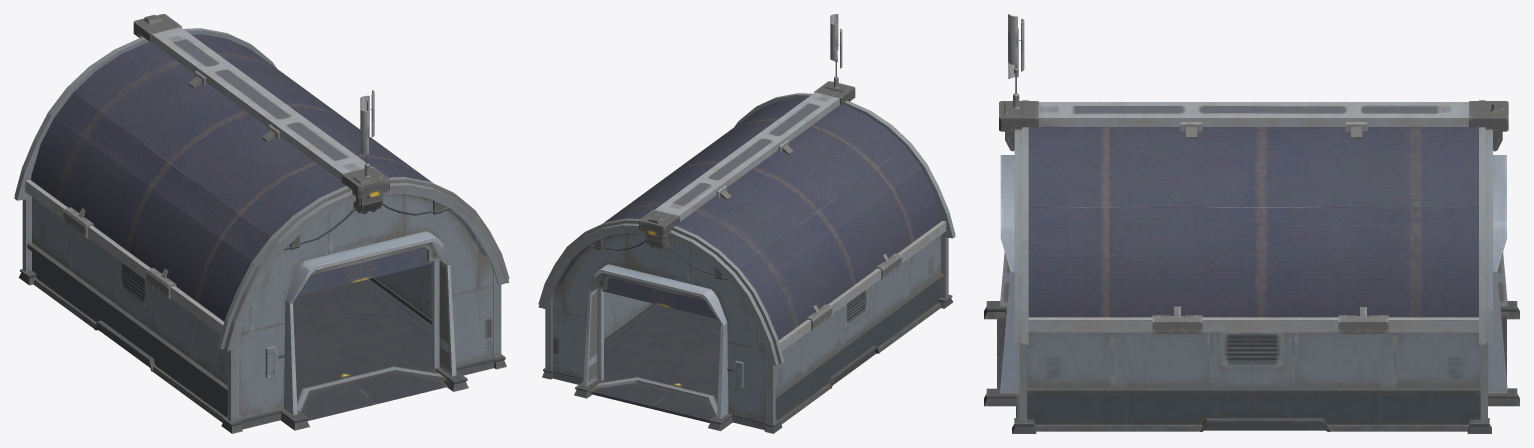
The model's file is Demo_fangzi03.FBX.
3 views of the same model, side by side, from view 1: azimuth 30°, elevation 25°; view 2: azimuth 150°, elevation 25°; view 3: azimuth 270°, elevation 25° (orthographic). The views are drawn at different scales.
Visible parts, largest first — view 1: Demo_fangzi03; view 2: Demo_fangzi03; view 3: Demo_fangzi03.
Boxes of the visible parts, <box> form: Demo_fangzi03: <box>14,14,509,433</box>; Demo_fangzi03: <box>538,14,955,433</box>; Demo_fangzi03: <box>984,14,1519,433</box>.
Size of the model in its own units: 783 by 794 by 1117.
